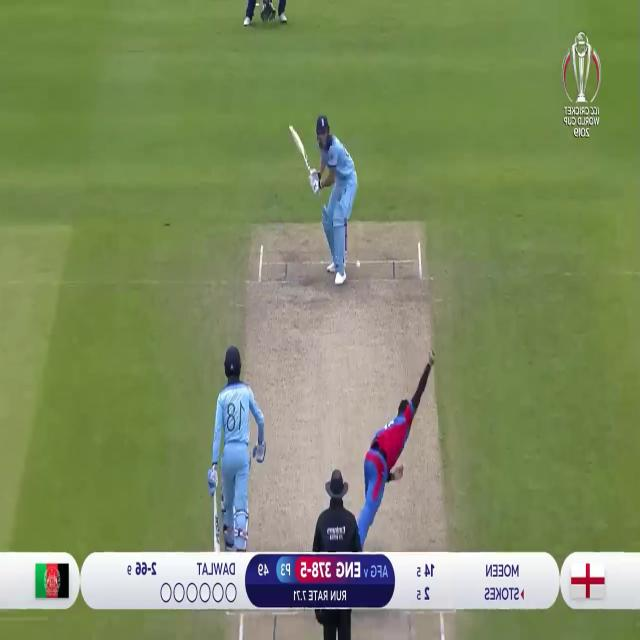ball: (355, 253, 363, 272)
